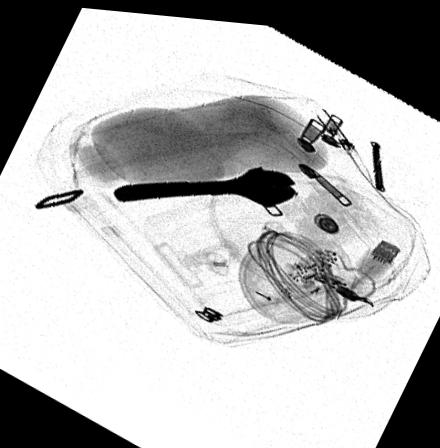Wrench: (113, 157, 301, 205)
